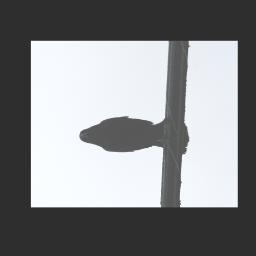Crow: (78, 113, 192, 157)
